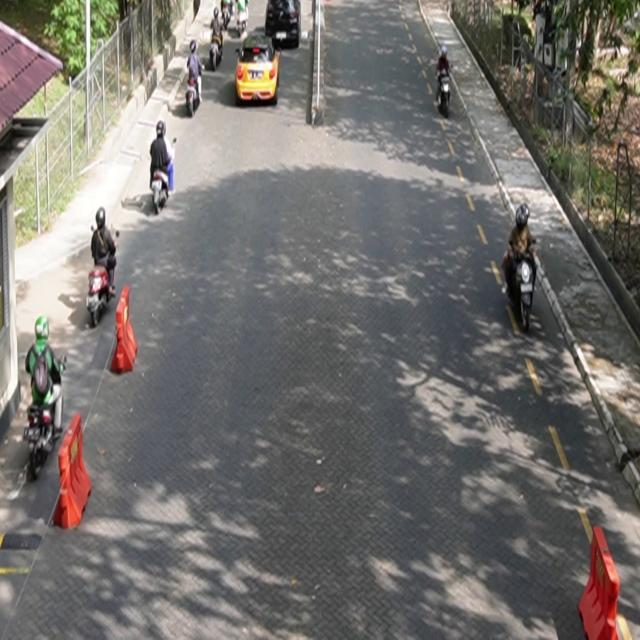car: (235, 29, 282, 106), (266, 1, 302, 50)
